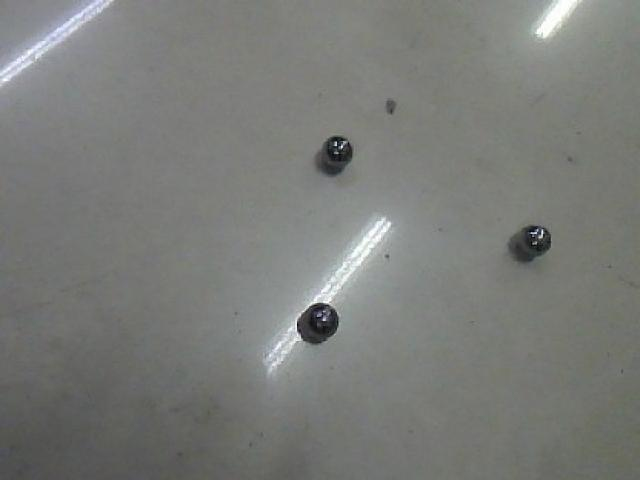steel-ball: (308, 120, 354, 175), (514, 208, 555, 268), (297, 306, 338, 357)
